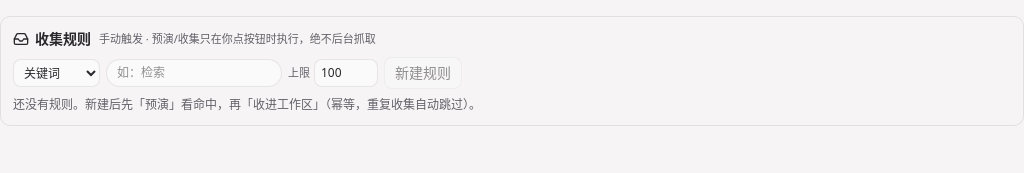
Test: N118 收集规则 › 空态 → 新建关键词规则（恰好一条件）→ 列表渲染
Expected: the text "还没有规则。新建后先「预演」看命中，再「收进工作区」（幂等，重复收集自动跳过）。" is shown, x1=13 y1=96 x2=481 y2=113
Expected: the text "手动触发 · 预演/收集只在你点按钮时执行，绝不后台抓取" is shown, x1=99 y1=31 x2=376 y2=47
Type "检索" into the field named "规则条件值".
click(194, 73); type("检索")  # box x1=106 y1=59 x2=282 y2=87
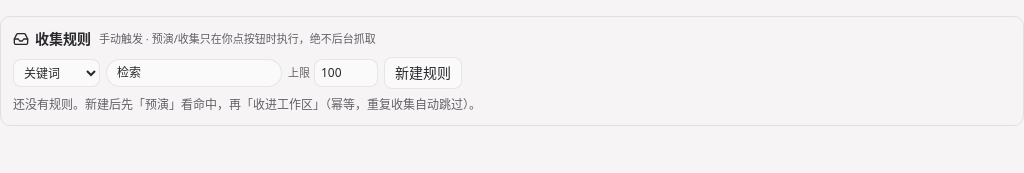
Click the button "新建规则".
click(423, 73)  # box x1=384 y1=57 x2=462 y2=89
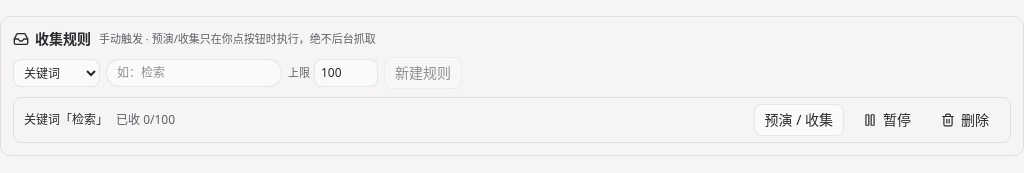
Expected: the text "关键词「检索」已收 0/100" is shown, x1=24 y1=111 x2=175 y2=128
